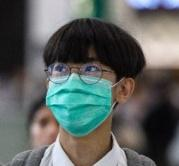OK: (46, 59, 114, 136)
